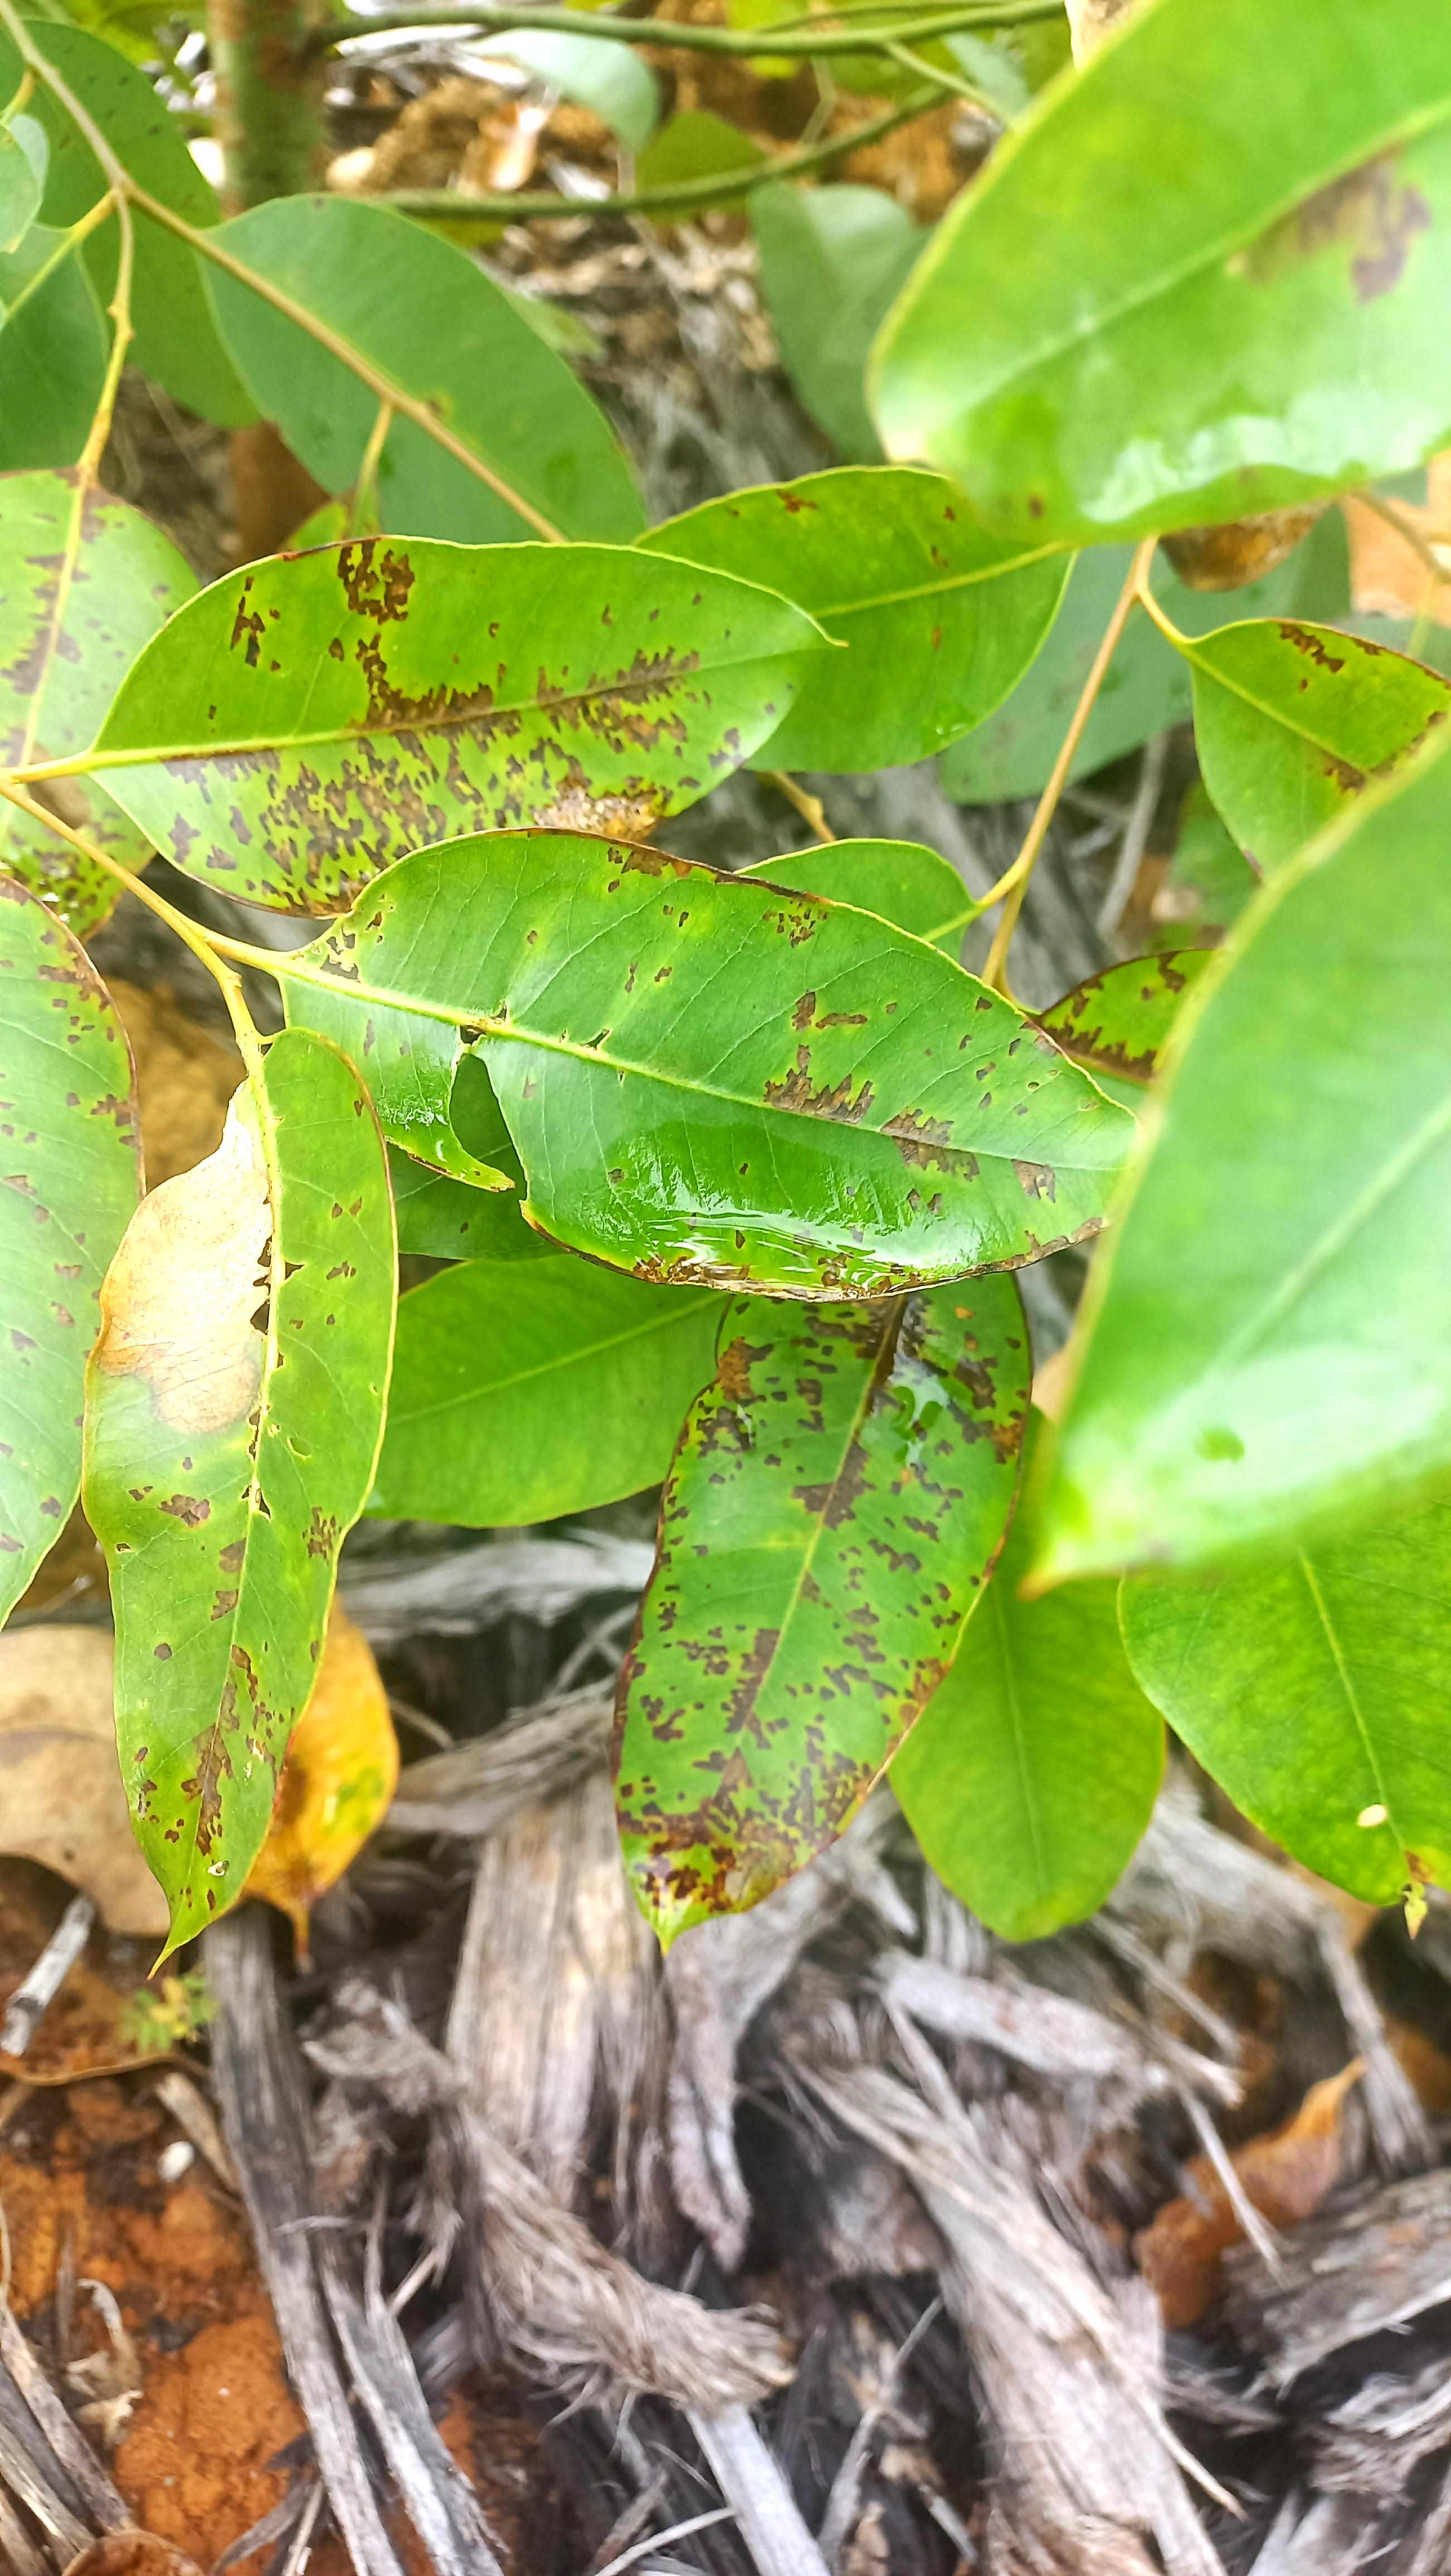Xanthomonas: (152, 540, 733, 924), (639, 1307, 987, 1911)
